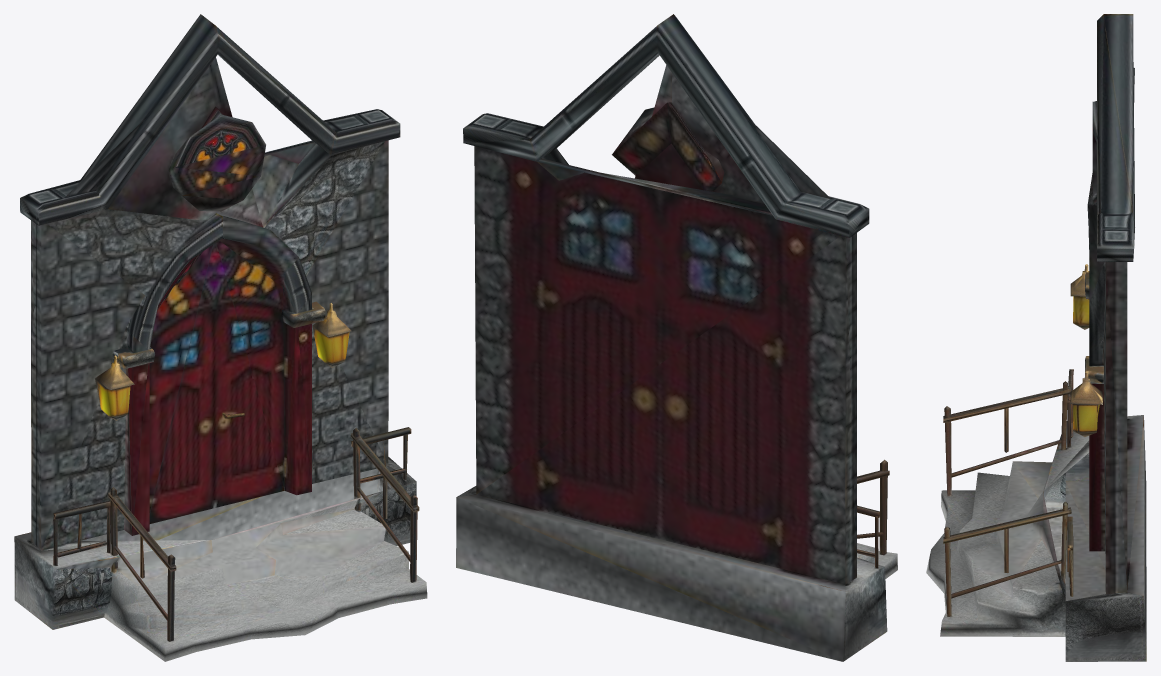
File: prayer_entrance.glb
3 renders of one model, left to right at view 1: azimuth 30°, elevation 25°; view 2: azimuth 150°, elevation 25°; view 3: azimuth 270°, elevation 25°, orthographic. The views are drawn at different scales.
Size of the model in its own units: 2.79 by 4 by 1.44.
Materials: 1 (1 with a texture image).
